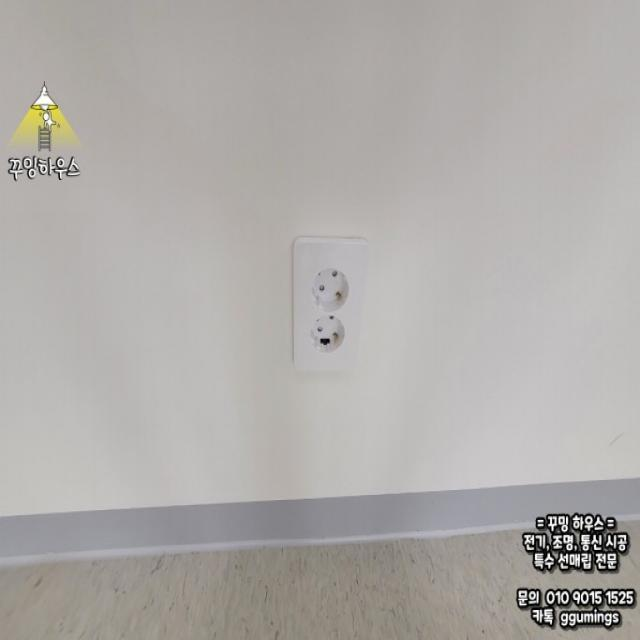typeb: (283, 222, 375, 397)
